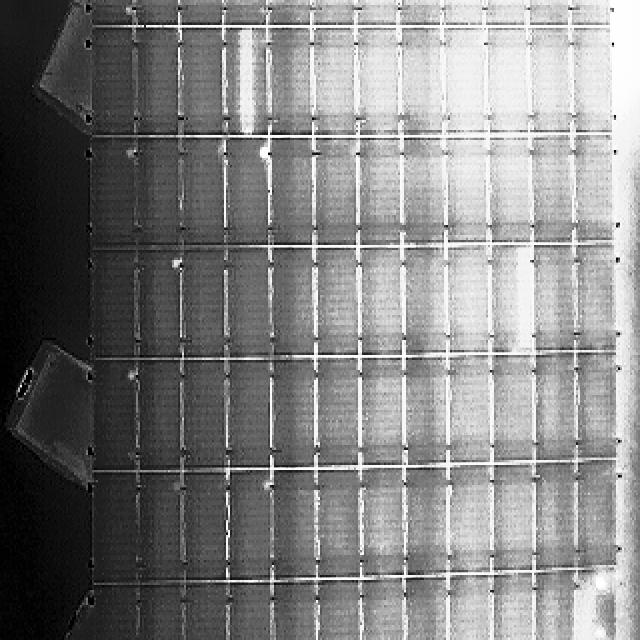Hotspots: (588, 568, 614, 590), (256, 139, 271, 160), (592, 625, 606, 640), (126, 366, 138, 383), (170, 252, 180, 272), (260, 477, 272, 492), (125, 148, 135, 161)
PV-modules: (409, 251, 460, 361), (87, 362, 137, 474), (132, 584, 230, 640), (86, 27, 136, 136), (88, 140, 136, 252), (89, 477, 137, 588), (136, 476, 184, 587), (87, 250, 136, 358), (356, 251, 404, 361), (136, 361, 183, 473), (183, 361, 230, 472), (130, 27, 177, 138), (228, 247, 275, 358), (135, 140, 182, 250), (315, 360, 361, 472), (221, 140, 267, 252), (182, 254, 228, 366), (224, 469, 270, 581), (227, 27, 274, 136), (530, 249, 576, 359), (316, 469, 362, 579), (315, 139, 361, 249), (313, 27, 359, 137), (269, 362, 315, 472), (270, 248, 316, 358), (180, 27, 226, 137), (358, 358, 404, 467), (270, 474, 316, 583), (359, 472, 405, 580), (356, 140, 402, 248), (399, 27, 445, 135), (269, 140, 314, 250), (184, 475, 229, 585), (448, 352, 493, 462), (267, 27, 312, 137), (527, 139, 572, 248), (407, 141, 452, 250), (136, 250, 181, 358), (486, 27, 531, 135), (488, 245, 533, 353), (316, 248, 360, 358), (230, 360, 274, 470), (359, 27, 403, 137), (487, 139, 532, 246), (183, 141, 226, 252), (446, 136, 490, 244), (530, 27, 574, 135), (410, 353, 453, 463), (448, 246, 491, 355), (449, 470, 493, 576), (489, 468, 533, 574), (572, 133, 614, 244), (579, 464, 622, 571), (446, 27, 488, 136), (536, 356, 579, 462), (406, 472, 449, 578), (536, 462, 579, 568), (570, 28, 612, 136), (490, 358, 532, 464), (578, 244, 620, 350), (579, 355, 620, 460), (488, 572, 534, 640), (447, 576, 493, 640), (361, 579, 407, 640), (577, 570, 617, 640), (86, 587, 138, 640), (492, 573, 533, 640), (405, 578, 449, 640), (536, 571, 576, 639), (316, 581, 362, 640), (133, 585, 182, 640), (271, 583, 318, 640), (229, 584, 275, 640), (184, 584, 230, 640), (128, 0, 176, 28), (84, 0, 132, 28), (266, 0, 312, 28), (312, 0, 358, 28), (566, 0, 610, 28), (352, 0, 396, 28), (482, 0, 526, 28), (396, 0, 440, 28), (526, 0, 568, 28), (178, 0, 230, 22), (218, 0, 264, 22), (438, 0, 482, 22)
